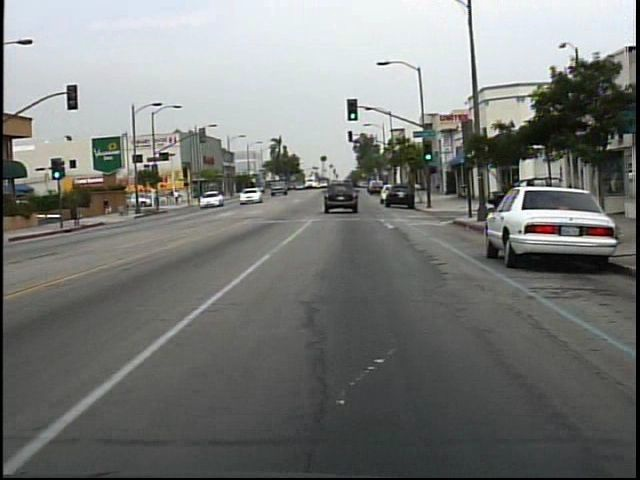person: (499, 173, 524, 228), (100, 192, 119, 220), (174, 187, 184, 207)
